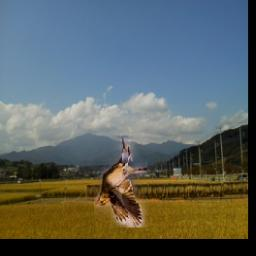Sparrow: (95, 137, 148, 229)
